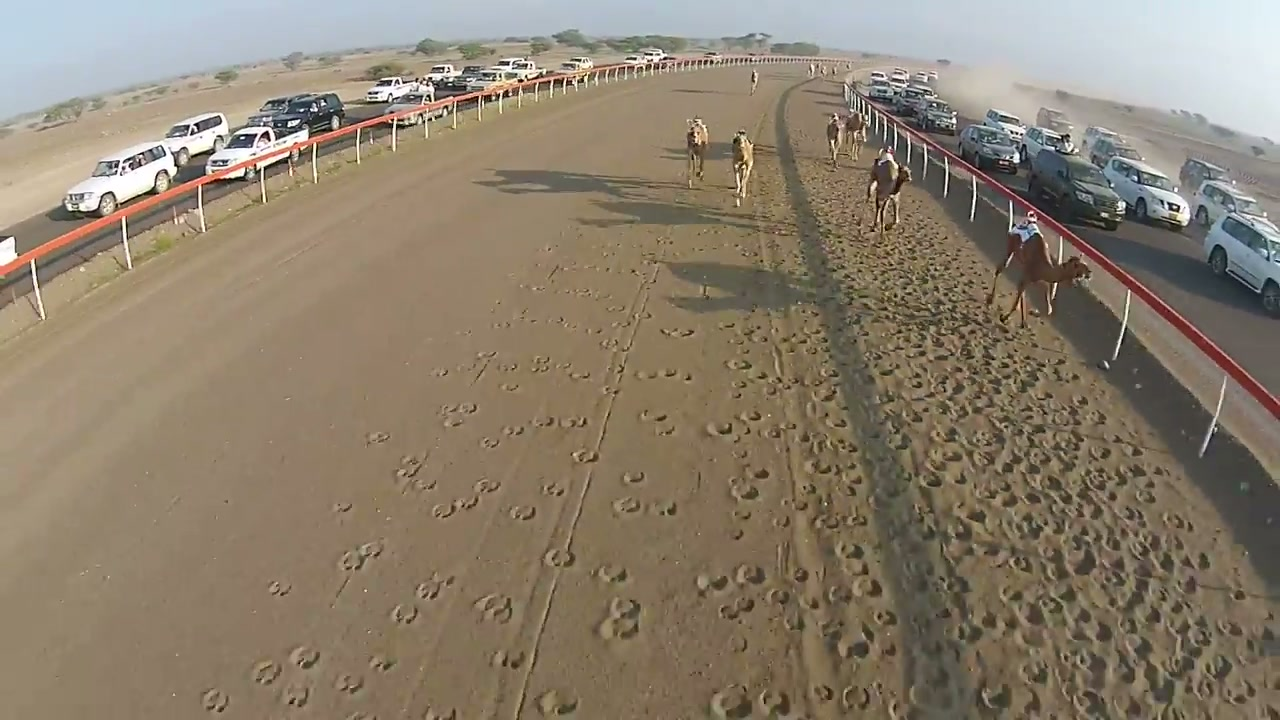animal_footprint: (304, 152, 1266, 717), (806, 188, 1264, 716), (496, 305, 791, 715), (242, 645, 394, 711), (694, 563, 771, 623), (709, 684, 794, 719), (597, 597, 641, 640), (394, 453, 437, 493), (709, 685, 752, 719), (611, 495, 677, 517), (338, 539, 383, 571), (430, 493, 485, 519), (536, 689, 578, 717), (474, 595, 514, 623), (415, 572, 455, 600), (638, 408, 677, 436), (439, 401, 479, 428), (728, 476, 761, 505), (529, 414, 588, 430), (634, 367, 693, 382), (200, 688, 230, 714), (395, 454, 424, 480), (490, 650, 527, 670), (390, 602, 420, 626), (595, 563, 629, 584), (733, 564, 765, 586), (705, 420, 741, 439), (543, 548, 575, 568), (421, 705, 461, 719), (613, 496, 642, 515), (649, 499, 677, 517), (508, 505, 536, 521), (473, 478, 501, 494), (267, 580, 291, 597), (571, 448, 598, 463), (661, 327, 696, 338), (541, 482, 566, 497), (558, 416, 588, 428), (365, 431, 389, 445), (331, 500, 352, 515), (533, 415, 556, 428), (502, 425, 524, 436), (499, 382, 521, 393), (642, 413, 644, 418)
